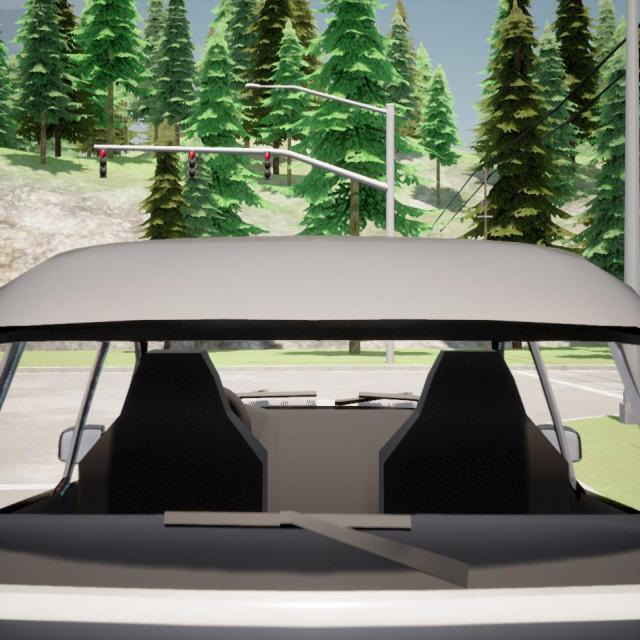Vehicle: (0, 231, 640, 639)
traffic_light: (262, 149, 272, 181), (98, 146, 107, 177), (188, 148, 195, 178)
